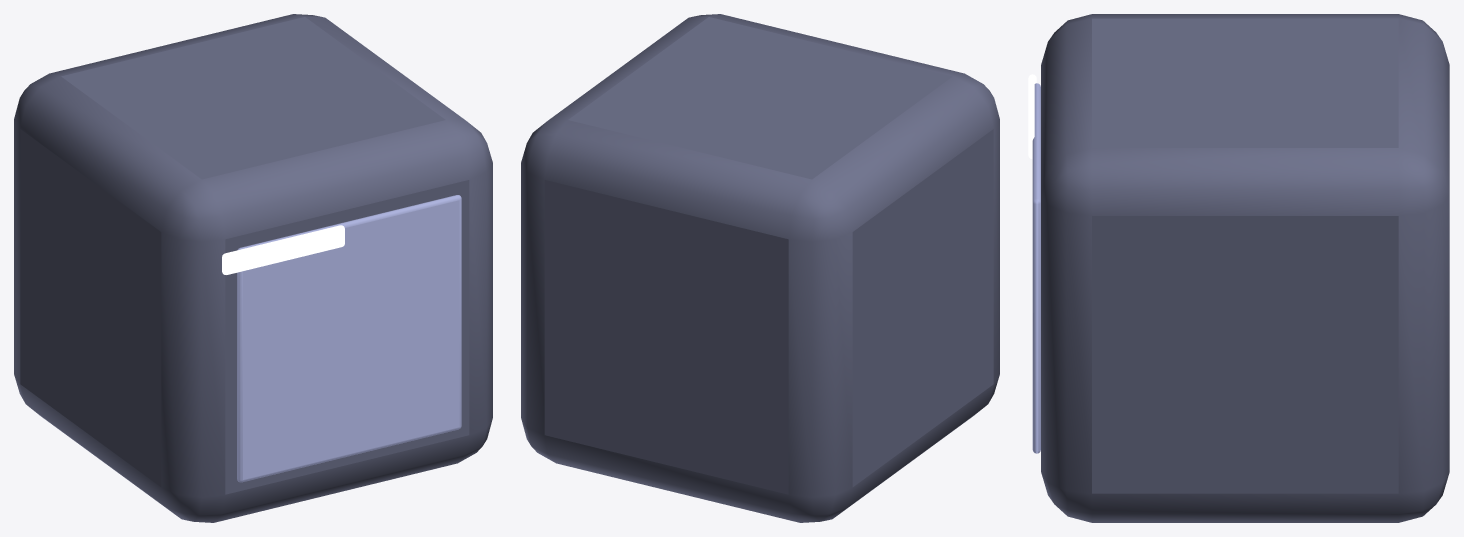
The model's file is kostka_smeti.glb.
The picture shows the model from 3 angles, left to right: view 1: azimuth 30°, elevation 25°; view 2: azimuth 150°, elevation 25°; view 3: azimuth 270°, elevation 25°; orthographic projection. The views are drawn at different scales.
Parts seen in each view (by area): view 1: kostka_smeti_m, kostka_smeti_lesk, kostka_smeti_hrana; view 2: kostka_smeti_m; view 3: kostka_smeti_m, kostka_smeti_lesk, kostka_smeti_hrana.
Boxes of the visible parts, x1,y1,x2,y2 form: kostka_smeti_m: (14,14,492,522); kostka_smeti_lesk: (237,195,461,482); kostka_smeti_hrana: (222,225,344,274); kostka_smeti_m: (521,14,999,522); kostka_smeti_m: (1041,14,1449,522); kostka_smeti_lesk: (1032,83,1040,453); kostka_smeti_hrana: (1028,74,1036,159).
Size of the model in its own units: 0.96 by 0.96 by 0.99.
